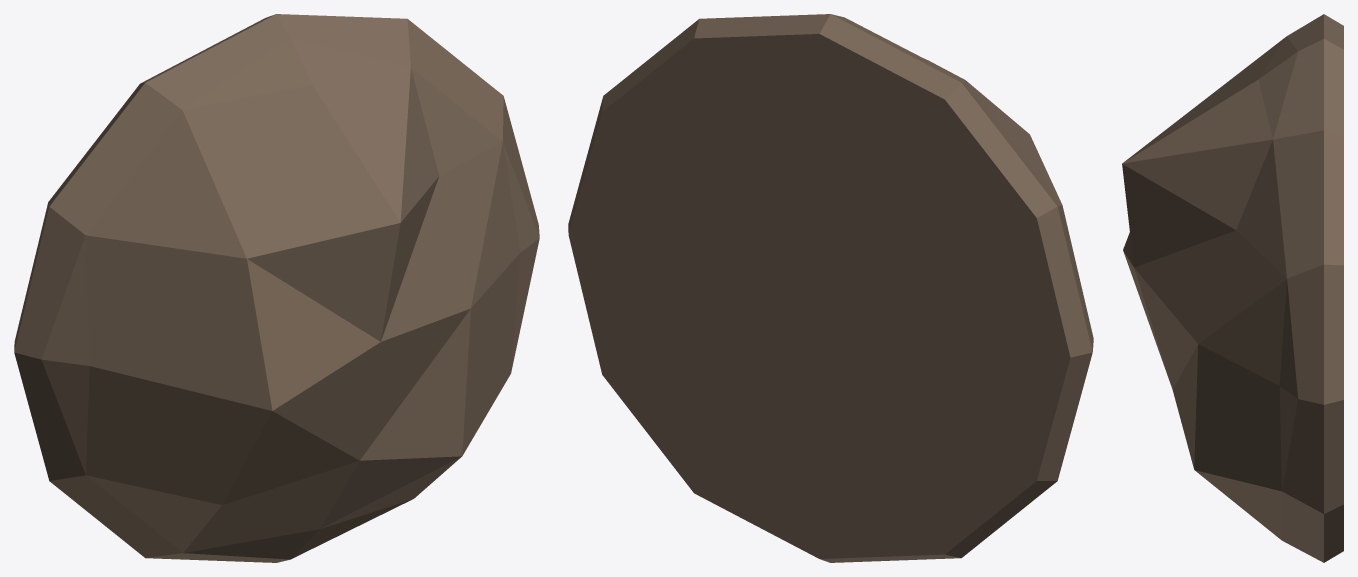
Rendered from B_FloatingTurretIsland.fbx.
The picture shows the model from 3 angles, left to right: view 1: azimuth 30°, elevation 25°; view 2: azimuth 150°, elevation 25°; view 3: azimuth 270°, elevation 25°; orthographic projection. The views are drawn at different scales.
Parts seen in each view (by area): view 1: Cylinder; view 2: Cylinder; view 3: Cylinder.
Part boxes in pixels (x1=…): Cylinder: x1=14, y1=14, x2=539, y2=562; Cylinder: x1=568, y1=14, x2=1093, y2=562; Cylinder: x1=1122, y1=14, x2=1343, y2=562.
Size of the model in its own units: 5.95 by 5.95 by 2.4.
